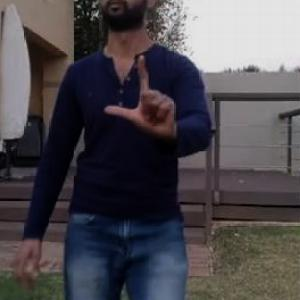land_hand: (102, 44, 183, 144)
